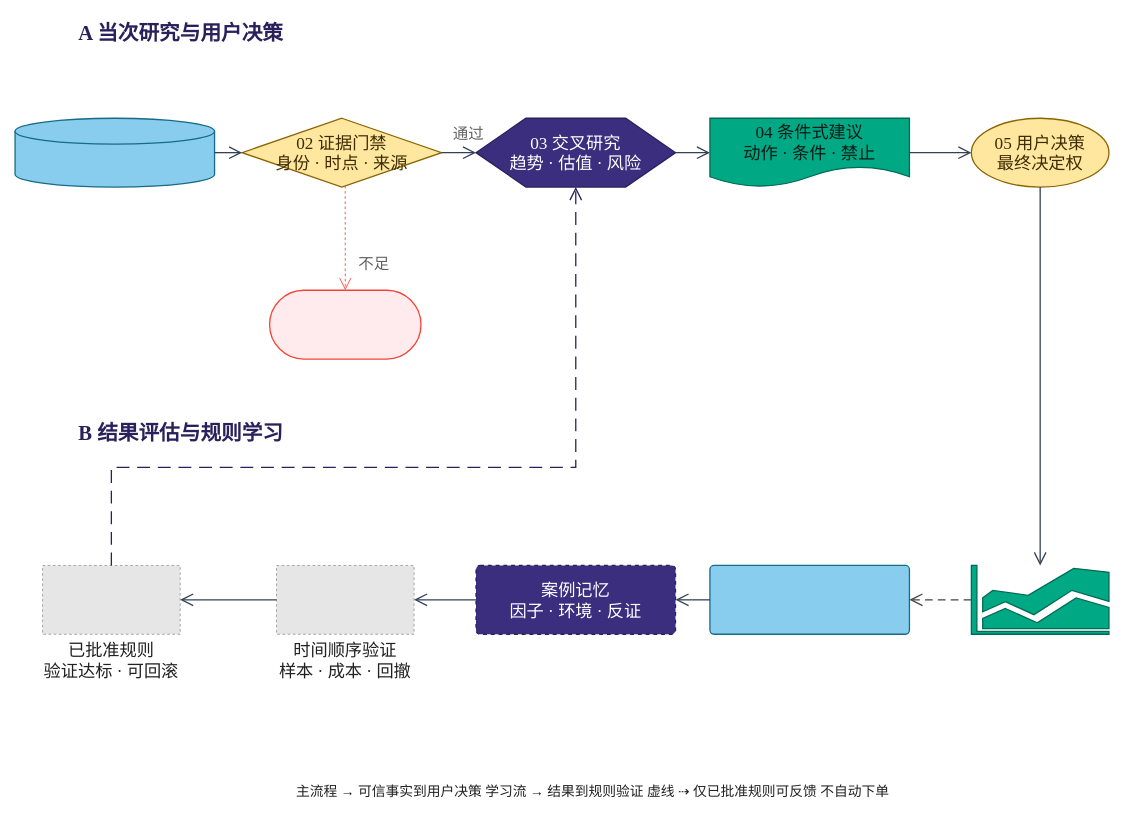
The diagram is 1125 pixels wide and 822 high, and some of its shapes have lost their labels. Grey dashed boxes stand in for pictures. The centre of each missing label's shape, as x and y in pixels:
"01 可信事实 成交 · 市场 · 公司" belongs at (x=114, y=152).
"06 操作与结果 留痕 · 不猜因果" belongs at (x=1039, y=599).
"固定窗口评估 实际 / 持有 / 建议" belongs at (x=809, y=599).
"证据不足 停止输出新建议" belongs at (x=345, y=324).
